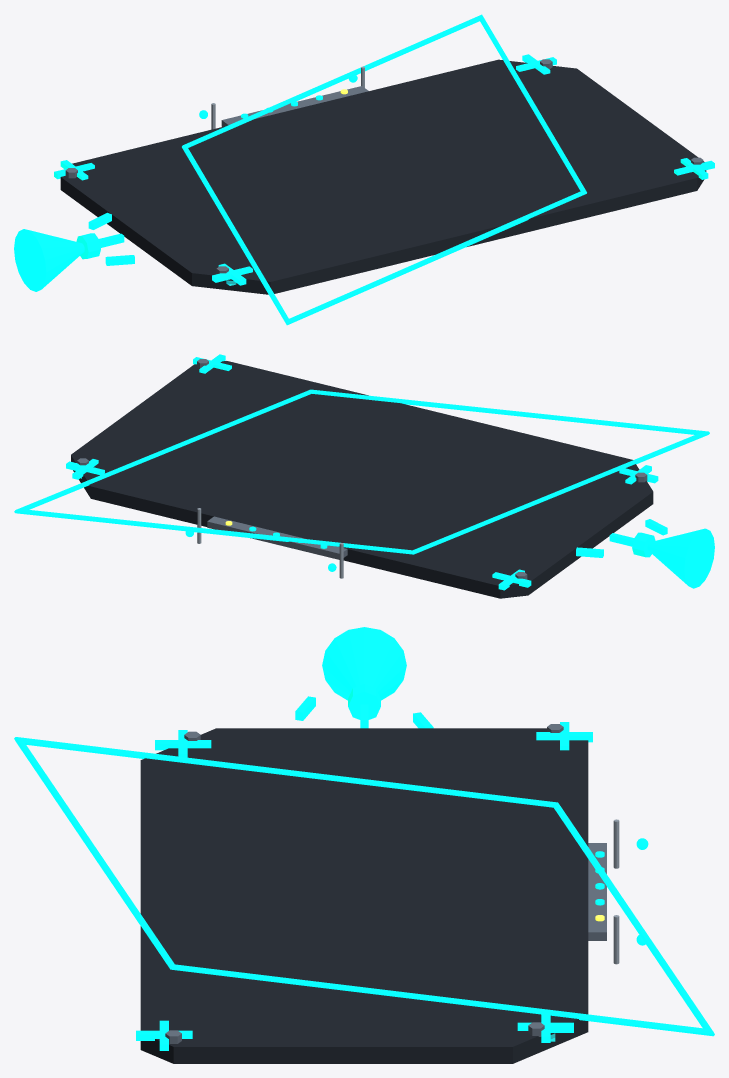
File: axiom7_speech_terminal.glb
3 views of the same model, one above another, from view 1: azimuth 30°, elevation 25°; view 2: azimuth 150°, elevation 25°; view 3: azimuth 270°, elevation 25° (orthographic). The views are drawn at different scales.
Parts seen in each view (by area): view 1: Terminal_OuterArmor, Terminal_NeonFrame, EmitterProjectionBeam, TelemetryBadgePlate; view 2: Terminal_OuterArmor, Terminal_NeonFrame, EmitterProjectionBeam, TelemetryBadgePlate, EmitterCoreNode; view 3: Terminal_OuterArmor, Terminal_NeonFrame, EmitterProjectionBeam, TelemetryBadgePlate, EmitterCoreNode.
Part boxes in pixels (box(x1,y1,x2,y2)): Terminal_OuterArmor: box(60, 59, 706, 294); Terminal_NeonFrame: box(182, 14, 586, 325); EmitterProjectionBeam: box(14, 229, 84, 291); TelemetryBadgePlate: box(221, 86, 368, 126); Terminal_OuterArmor: box(71, 361, 653, 598); Terminal_NeonFrame: box(14, 389, 709, 554); EmitterProjectionBeam: box(647, 528, 714, 588); TelemetryBadgePlate: box(207, 516, 347, 559); EmitterCoreNode: box(632, 532, 655, 557); Terminal_OuterArmor: box(140, 728, 588, 1063); Terminal_NeonFrame: box(14, 737, 714, 1036); EmitterProjectionBeam: box(322, 627, 406, 700); TelemetryBadgePlate: box(588, 843, 606, 940); EmitterCoreNode: box(348, 684, 380, 719).
Bounding box in the file's own units: 3.89 × 0.36 × 2.98.
